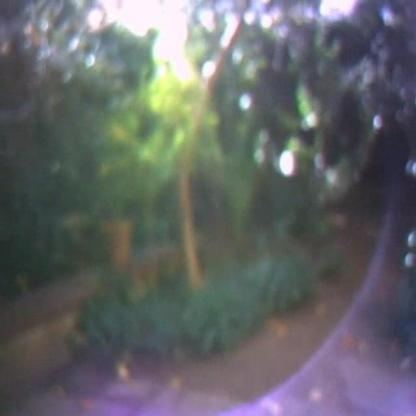other: (110, 9, 226, 158)
